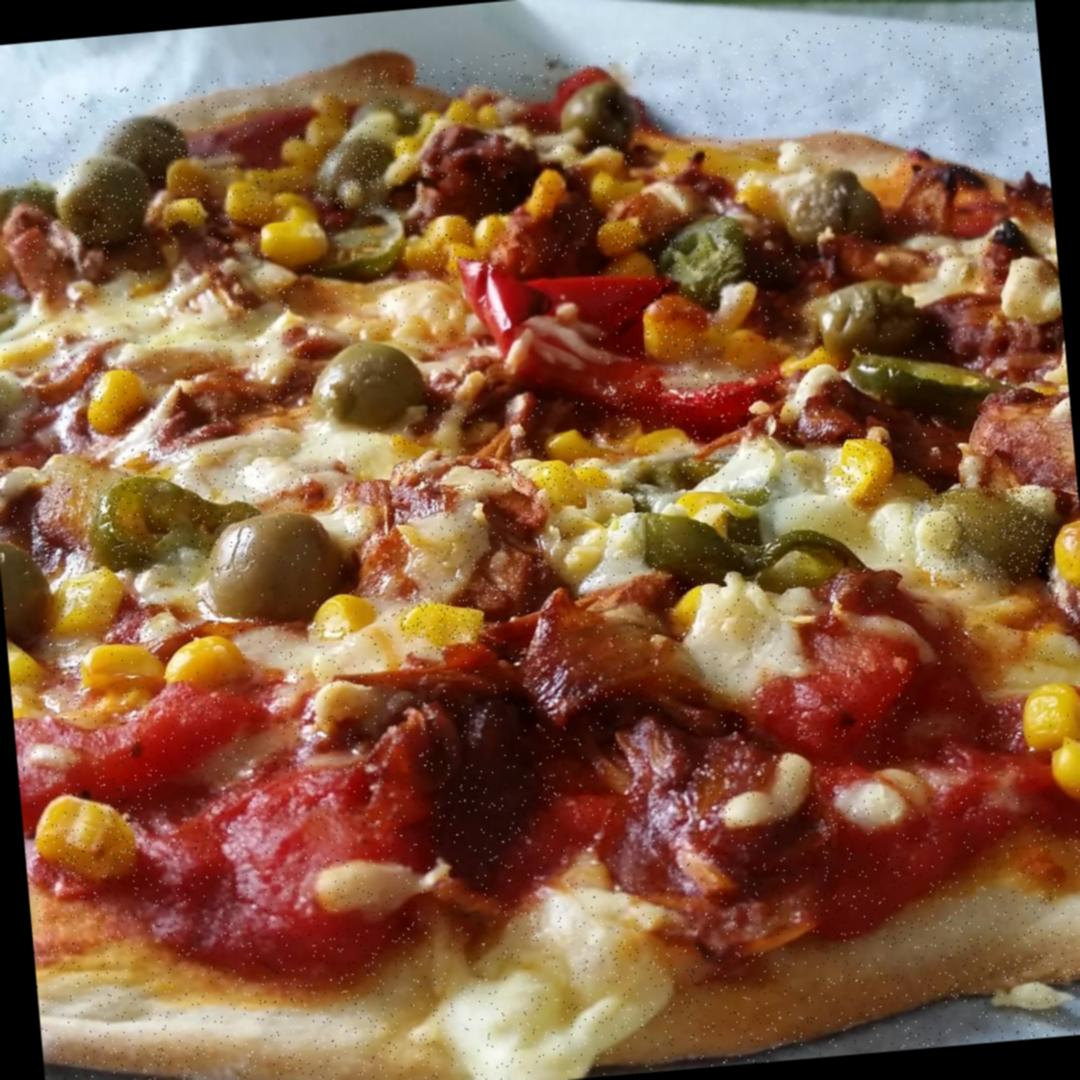Corn: (31, 788, 146, 888), (77, 634, 245, 696), (1012, 676, 1080, 813), (406, 212, 508, 276), (54, 567, 130, 640), (397, 598, 486, 654), (84, 368, 156, 435), (528, 456, 614, 512), (832, 431, 896, 502), (642, 300, 704, 364), (306, 590, 382, 642), (7, 642, 54, 725), (261, 219, 326, 272), (166, 155, 220, 200), (228, 180, 280, 226), (726, 326, 777, 371), (1050, 518, 1080, 591), (0, 335, 53, 370), (597, 216, 642, 252), (164, 198, 206, 233)
Olives: (208, 512, 348, 628), (924, 476, 1056, 586), (311, 338, 424, 432), (51, 152, 155, 250), (816, 277, 922, 356), (784, 163, 889, 237), (98, 112, 187, 192), (559, 78, 642, 157), (0, 540, 59, 645), (313, 140, 392, 213)
Peppers: (623, 504, 869, 603), (82, 468, 267, 582), (462, 260, 604, 404), (838, 338, 1016, 422), (602, 366, 790, 431), (657, 217, 755, 302)
Pizza: (0, 8, 1080, 1080)
